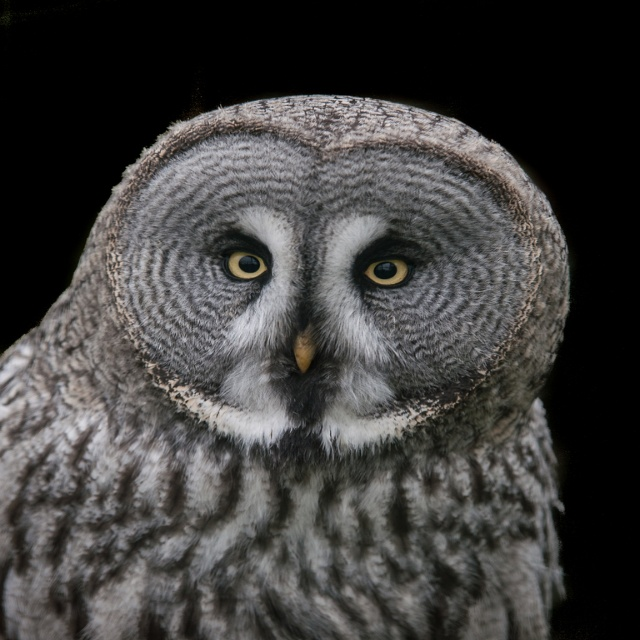Owl: (0, 91, 578, 640)
